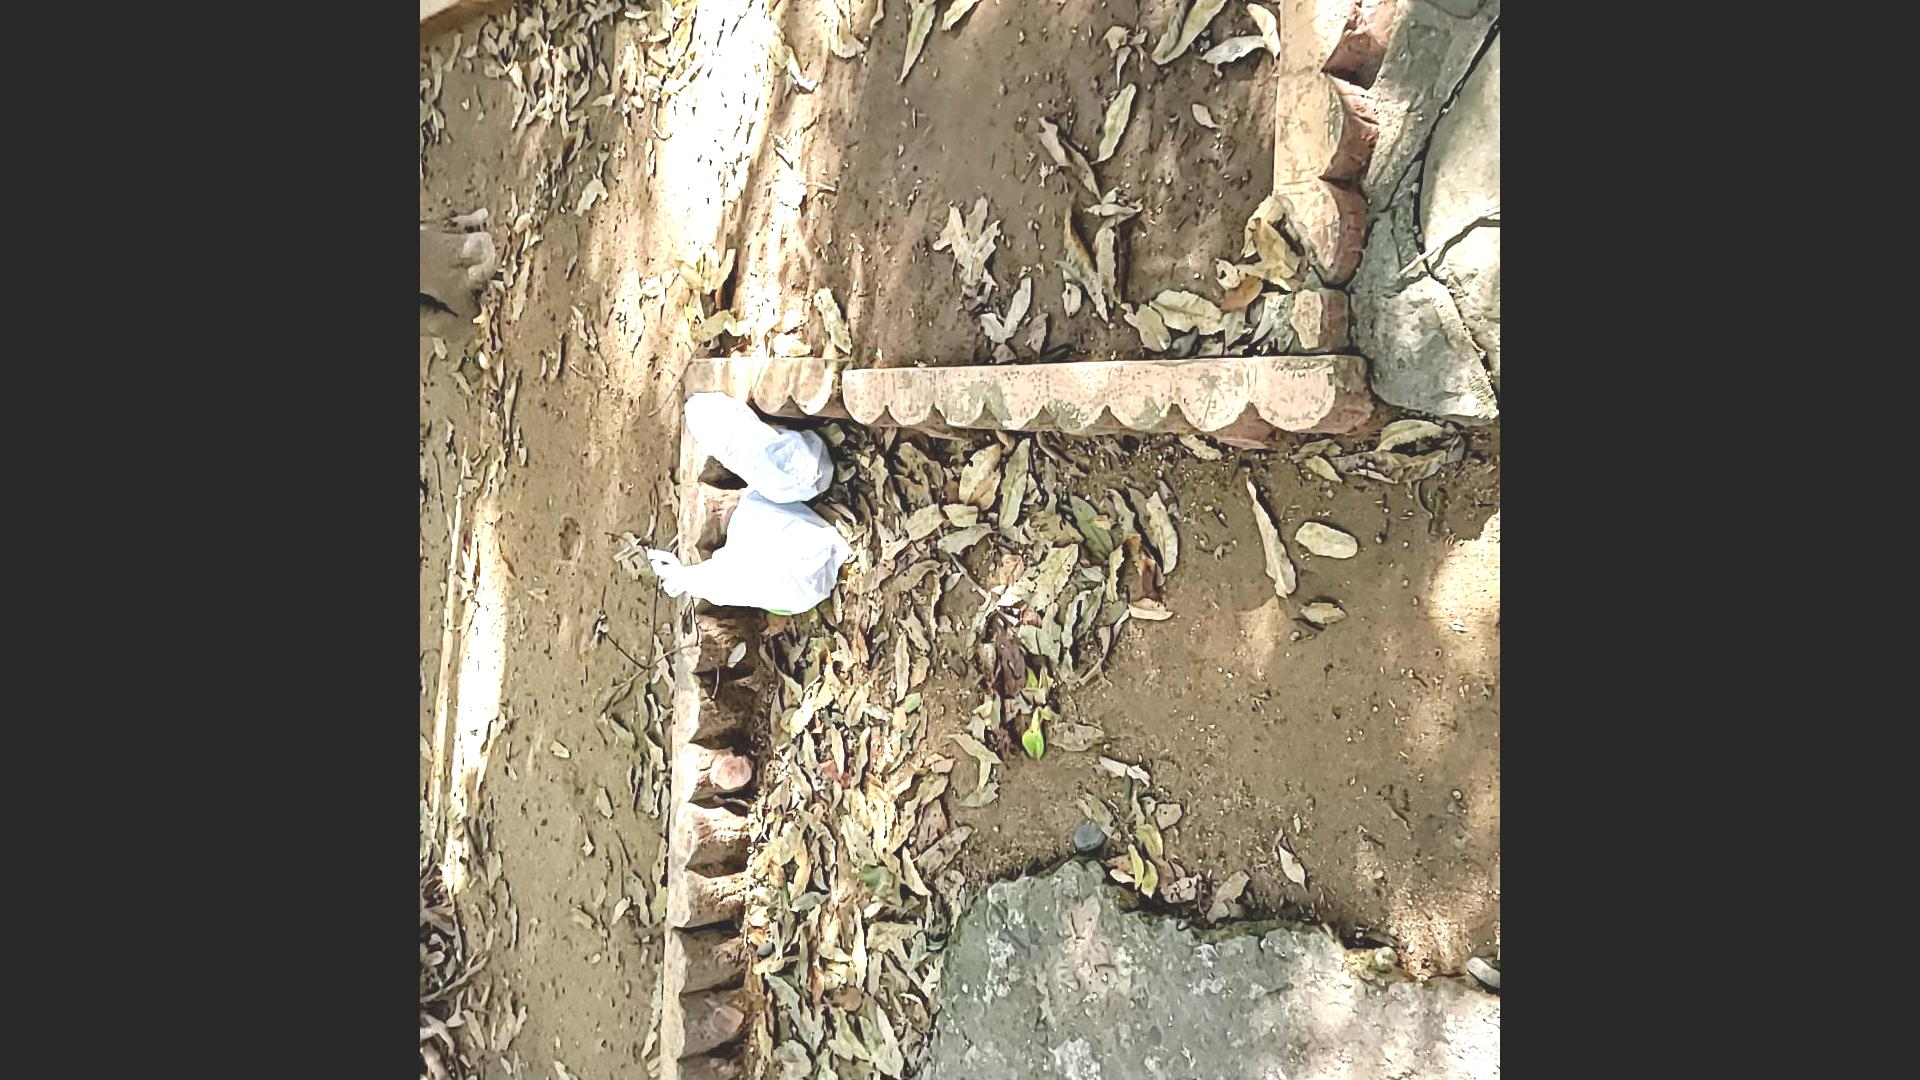white_bag: (644, 485, 855, 622), (680, 392, 837, 501)
